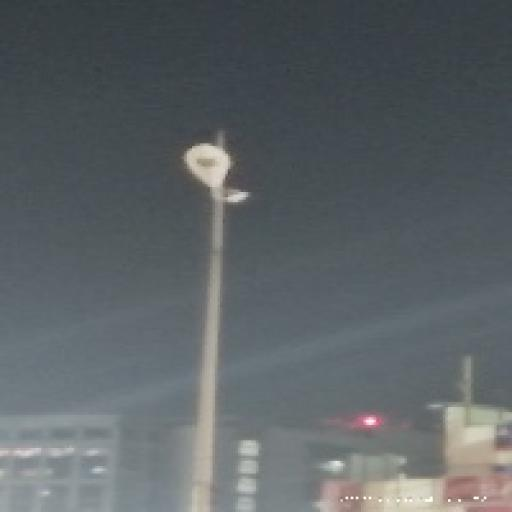Not Working: (181, 139, 237, 193), (221, 182, 253, 208)
